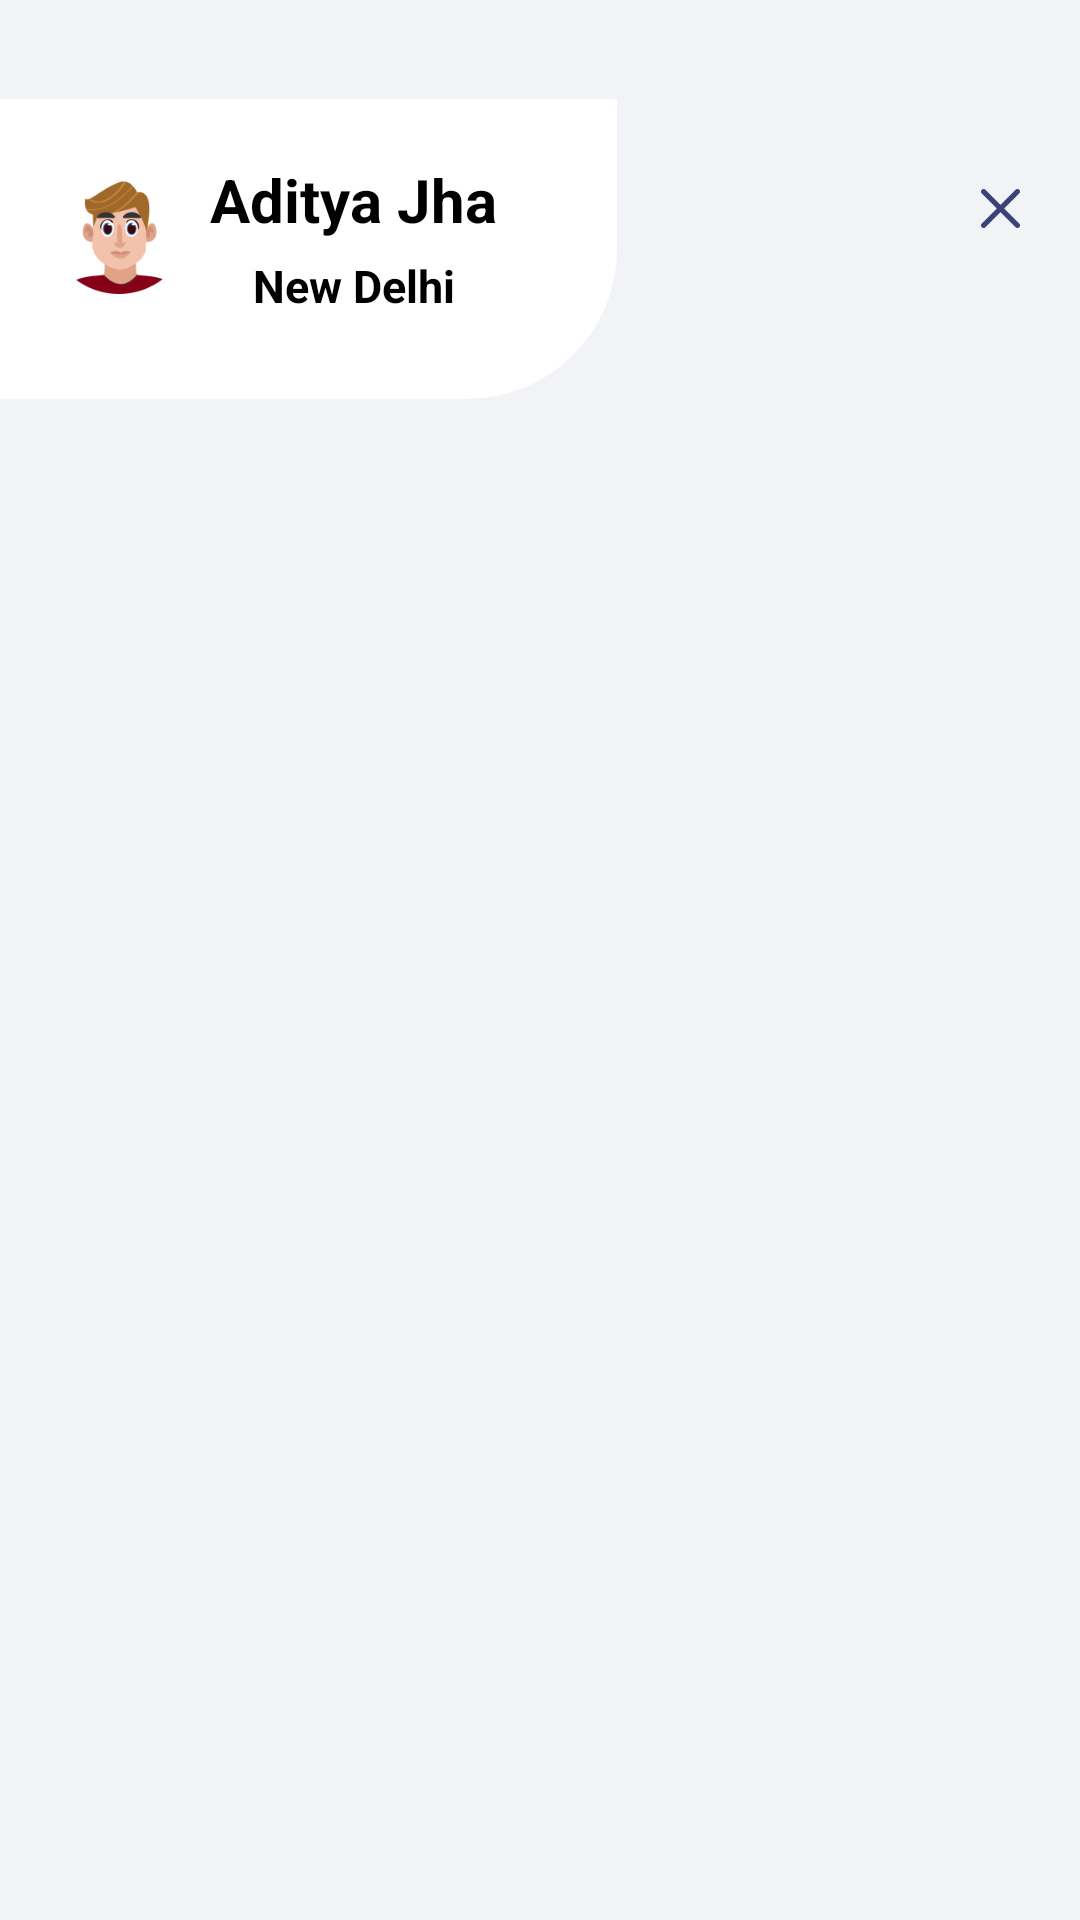

Icons on this 1080x1920 Android screen, each with its box as (x1, y1, x2, y2):
close: (981, 189, 1020, 228)
profile pic: (76, 181, 163, 294)
